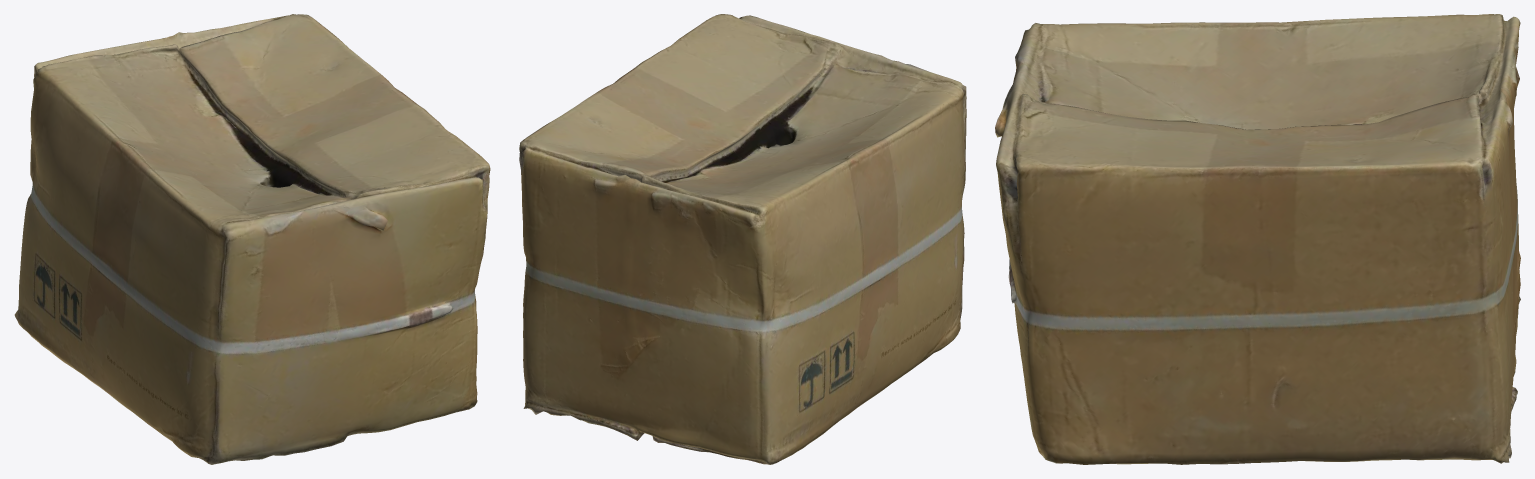
Rendered from cardboard_box_01.glb.
3 renders of one model, left to right at view 1: azimuth 30°, elevation 25°; view 2: azimuth 150°, elevation 25°; view 3: azimuth 270°, elevation 25°, orthographic. The views are drawn at different scales.
Parts seen in each view (by area): view 1: cardboard_box_01; view 2: cardboard_box_01; view 3: cardboard_box_01.
Part boxes in pixels (<box>): cardboard_box_01: <box>14,14,490,464</box>; cardboard_box_01: <box>519,14,966,464</box>; cardboard_box_01: <box>995,14,1520,464</box>.
Size of the model in its own units: 0.387 by 0.3418 by 0.5159.
Materials: 1 (1 with a texture image).
